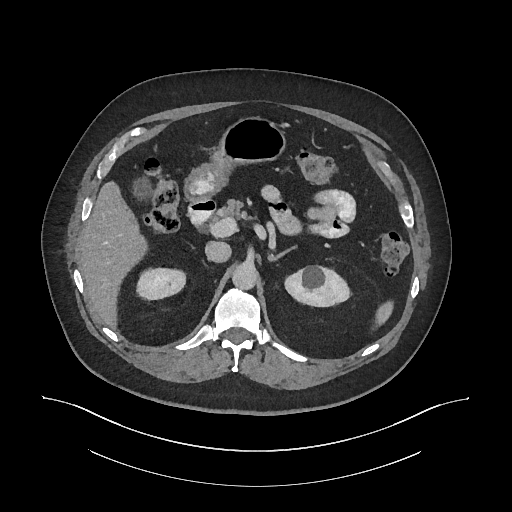Lesion: (299, 264, 329, 294)
